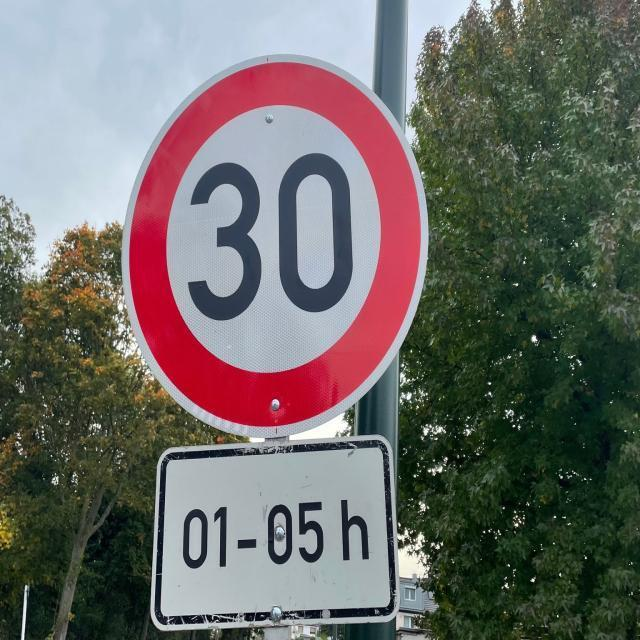Speed Limit -30-: (122, 55, 428, 438)
